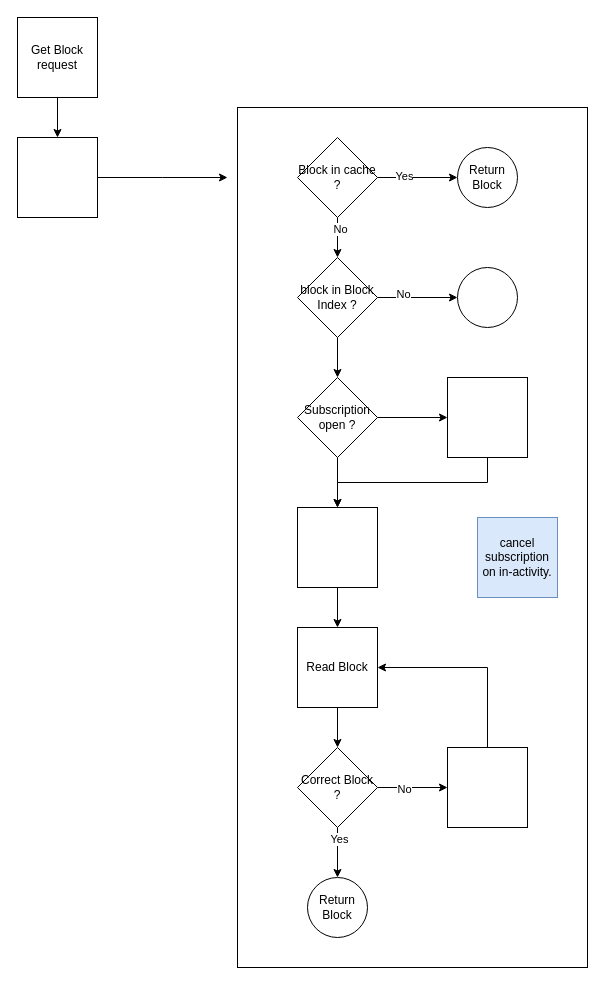
The diagram is 605 pixels wide and 985 high, and some of its shapes have lost their labels. The shapes that lost their labels are listed below. From the top down, each one's box as (x1, y1, x2, y2) in pixels, then its label:
(16, 136, 98, 218): Process Block Request
(456, 266, 518, 328): Return null
(446, 376, 528, 458): Open subscription
(296, 506, 378, 588): Seek to Block index (if necessary)
(446, 746, 528, 828): Add to cache (subject to conditions)
